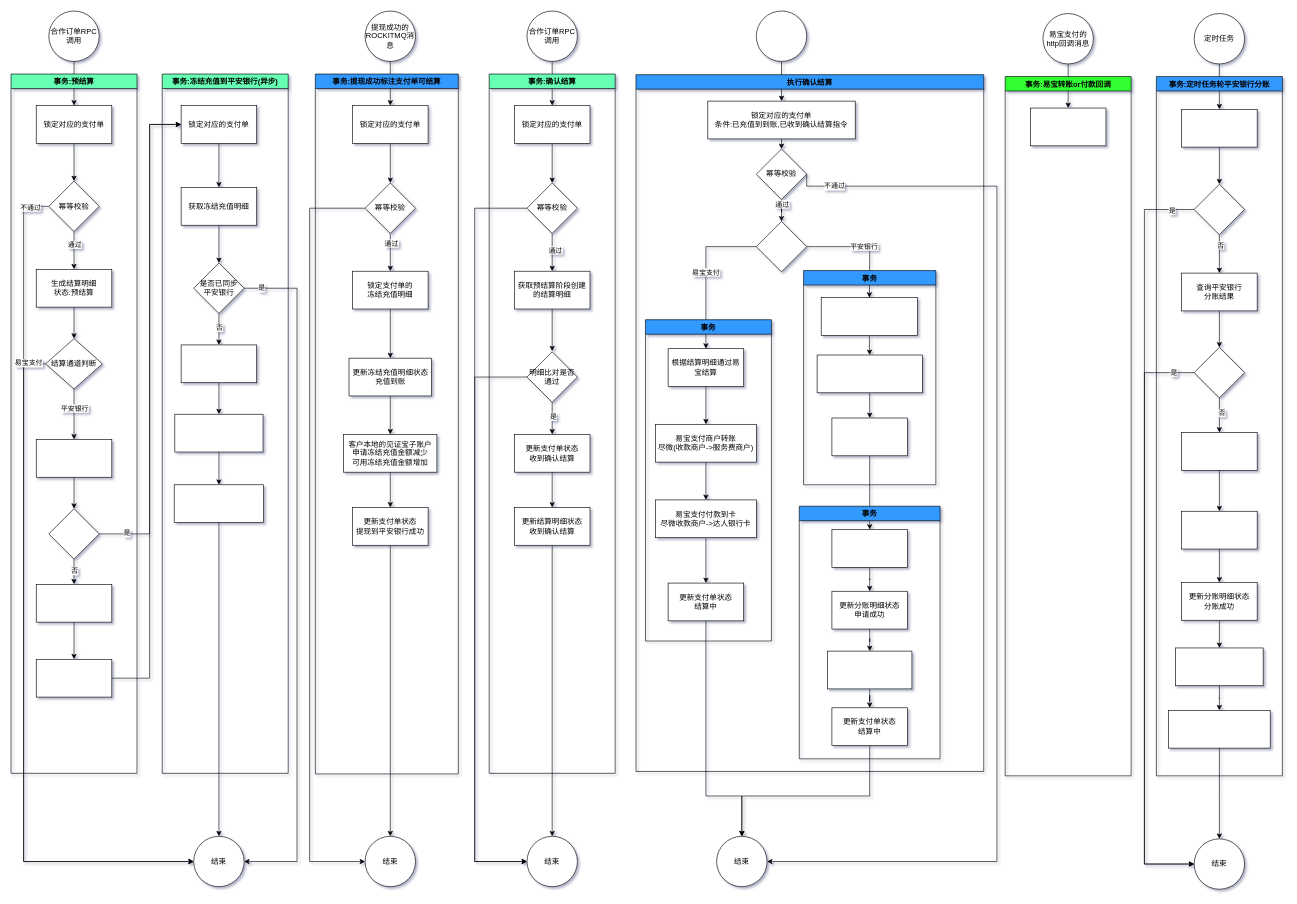
This 1297x904 diagram has some shape labels left out. Each missing label, with the centre of its shape:
保持原有逻辑: point 1068,126
冻结充值到平安银行: point 218,363
分账是否成功: point 1219,372
判断结算渠道: point 781,246
定时任务周期结算: point 781,35
客户本地的见证宝子账户 申请冻结充值金额增加: point 219,503
客户本地见证宝子账户 可提现金额增加 分账中冻结充值金额减少: point 1219,666
客户本地见证宝子账户 可用冻结充值金额减少 分账中冻结充值金额增加: point 869,669
客户本地资金账户 可提现金额增加 可用金额中冻结充值金额减少: point 1219,729
是否存在 冻结充值明细: point 73,533
是否结算成功: point 1219,209
更新冻结充值明细状态 申请成功: point 218,433
更新支付单状态 预结算成功: point 74,678
更新支付单结算渠道 平安银行: point 74,458
查询支付单: point 1219,128
根据冻结充值明细 1:1创建分账明细: point 869,436
根据分账明细 向平安银行发起分账: point 869,548
生成冻结充值明细 状态:待申请: point 74,603
锁定客户在尽微的见证宝子账户: point 1219,530
锁定客户在尽微的资金账户: point 1219,451
锁定见证宝子账户做金额变更 到账冻结充值金额减少 分账中冻结充值金额增加: point 869,373
锁定资金账户做金额变更 可分账金额减少 分账冻结金额增加: point 869,316
